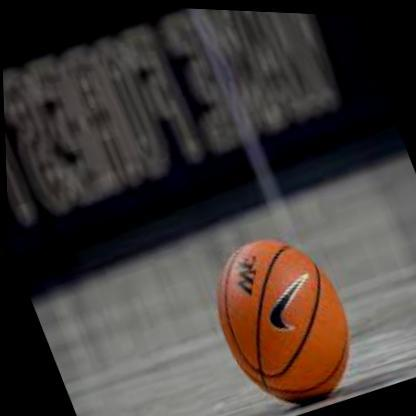basketball: (191, 214, 371, 416)
